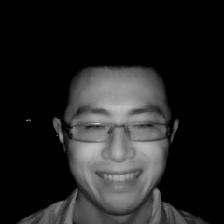happy: (48, 49, 190, 215)
